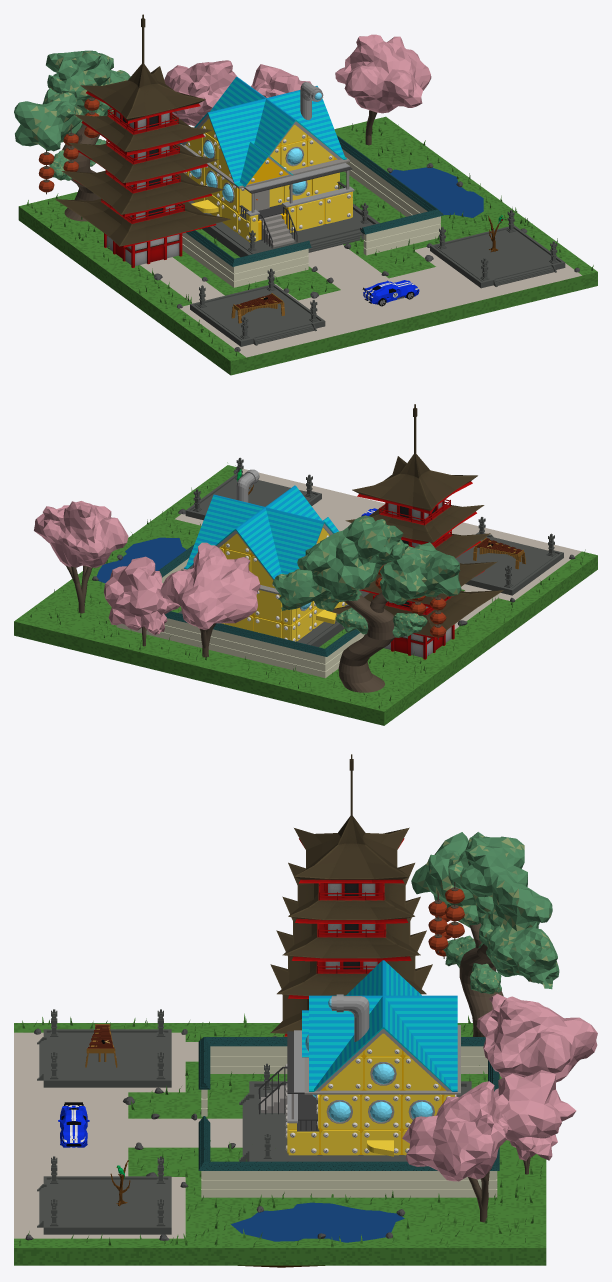
The picture shows the model from 3 angles, top to bottom: view 1: azimuth 30°, elevation 25°; view 2: azimuth 150°, elevation 25°; view 3: azimuth 270°, elevation 25°; orthographic projection. The views are drawn at different scales.
Visible parts, largest first — view 1: Cube.005, Cube.1366, VEHICLES_RACING_CAR, OBJRANDOM_MARIMBA; view 2: Cube.005, Cube.1366, OBJRANDOM_MARIMBA; view 3: Cube.005, Cube.1366, VEHICLES_RACING_CAR, OBJRANDOM_MARIMBA.
Boxes of the visible parts, bbox=[...] form: Cube.005: bbox=[14, 14, 597, 375]; Cube.1366: bbox=[179, 77, 354, 248]; VEHICLES_RACING_CAR: bbox=[362, 280, 419, 306]; OBJRANDOM_MARIMBA: bbox=[231, 293, 284, 323]; Cube.005: bbox=[14, 404, 597, 725]; Cube.1366: bbox=[181, 469, 347, 641]; OBJRANDOM_MARIMBA: bbox=[473, 537, 525, 569]; Cube.005: bbox=[14, 754, 597, 1265]; Cube.1366: bbox=[258, 960, 460, 1156]; VEHICLES_RACING_CAR: bbox=[58, 1102, 89, 1147]; OBJRANDOM_MARIMBA: bbox=[85, 1024, 117, 1067].
Size of the model in its own units: 4528 by 2756 by 4389.
Materials: 46 (5 with a texture image).
